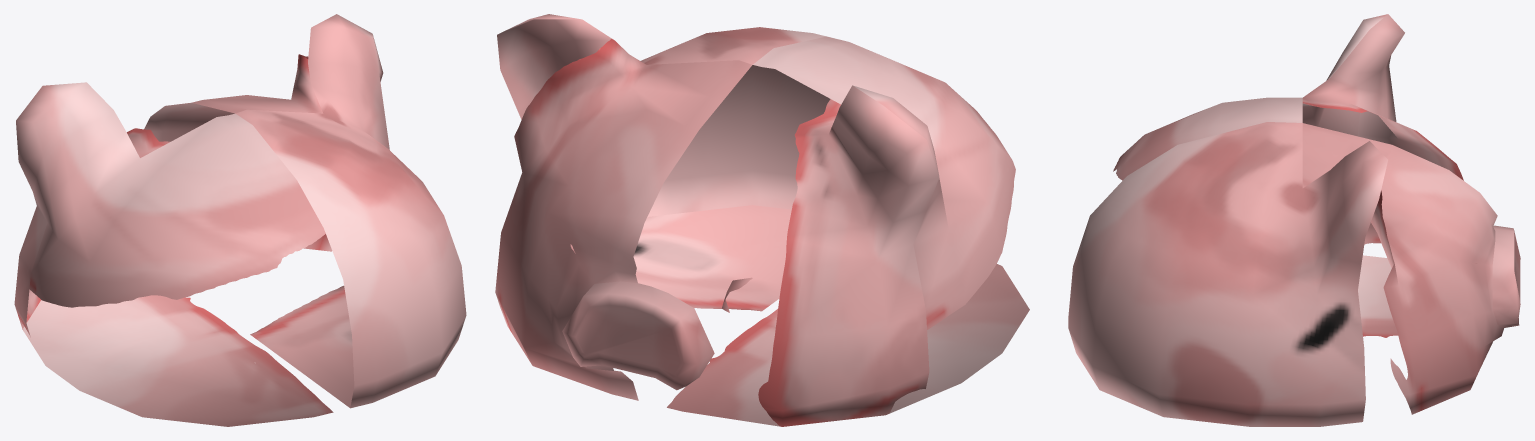
File: pig mask.fbx
The picture shows the model from 3 angles, left to right: view 1: azimuth 30°, elevation 25°; view 2: azimuth 150°, elevation 25°; view 3: azimuth 270°, elevation 25°; orthographic projection. The views are drawn at different scales.
Parts seen in each view (by area): view 1: Cylinder.001; view 2: Cylinder.001; view 3: Cylinder.001.
Part boxes in pixels (<box>): Cylinder.001: <box>14,14,466,426</box>; Cylinder.001: <box>495,14,1029,426</box>; Cylinder.001: <box>1068,14,1520,426</box>.
Bounding box in the file's own units: 2.18 × 1.41 × 2.28.
